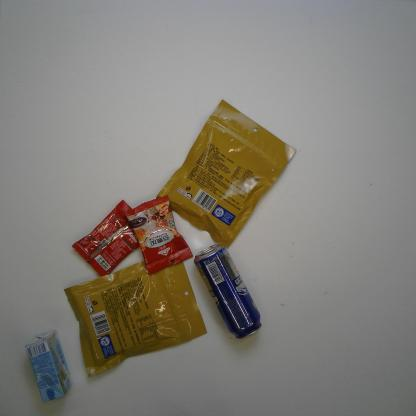Alcohol: (193, 243, 262, 339)
Dried Fruit: (155, 99, 296, 250), (64, 251, 208, 378)
Instant Drink: (70, 198, 146, 278), (124, 194, 194, 276)
Milk: (25, 328, 72, 403)
